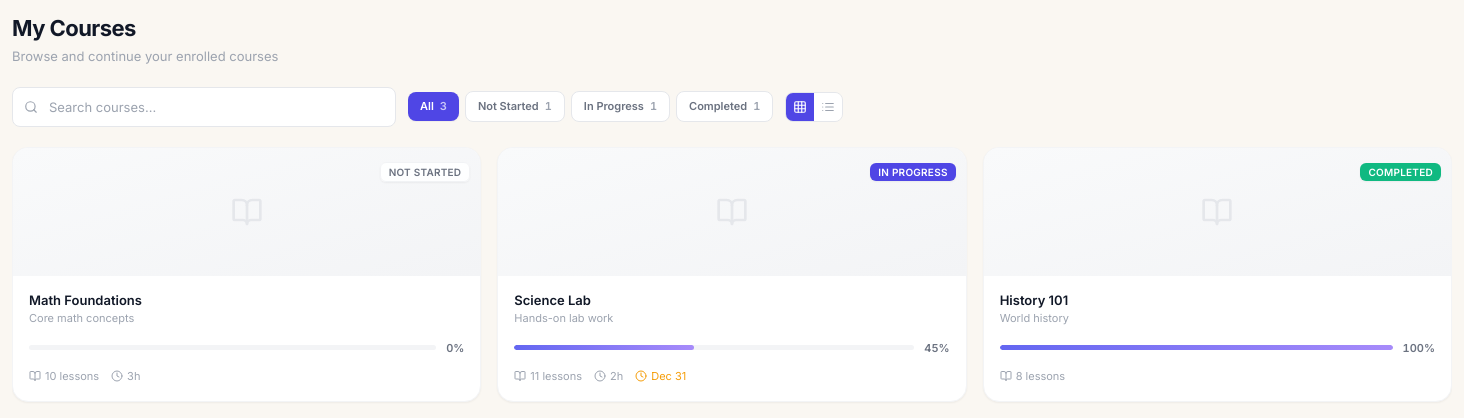
Test case: CourseListPage › status filter — Completed › shows only History 101 and hides other courses
Expected: the heading "Math Foundations" is shown, [29,292,142,308]
Click the button "Completed1": [725, 107] box [676,91,773,122]
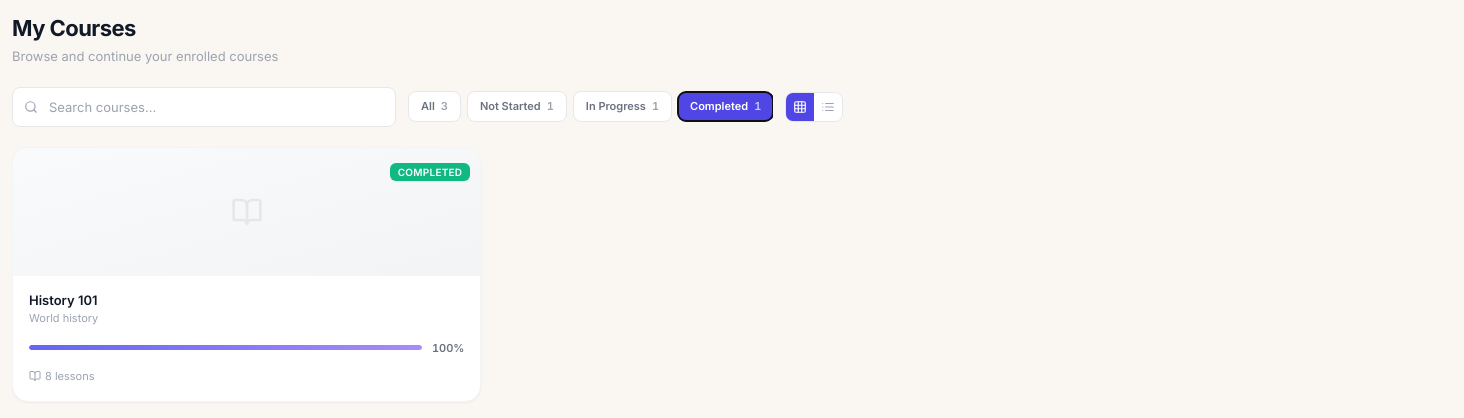
Expected: the heading "History 101" is shown, [29,292,98,308]
Expected: the button "Math Foundations" is gone
Expected: the button "Science Lab" is gone
